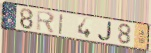4: (77, 17, 93, 40)
8: (117, 23, 133, 46), (19, 8, 34, 31)
I: (58, 13, 65, 36)
J: (97, 21, 113, 42)
R: (36, 9, 56, 35)
